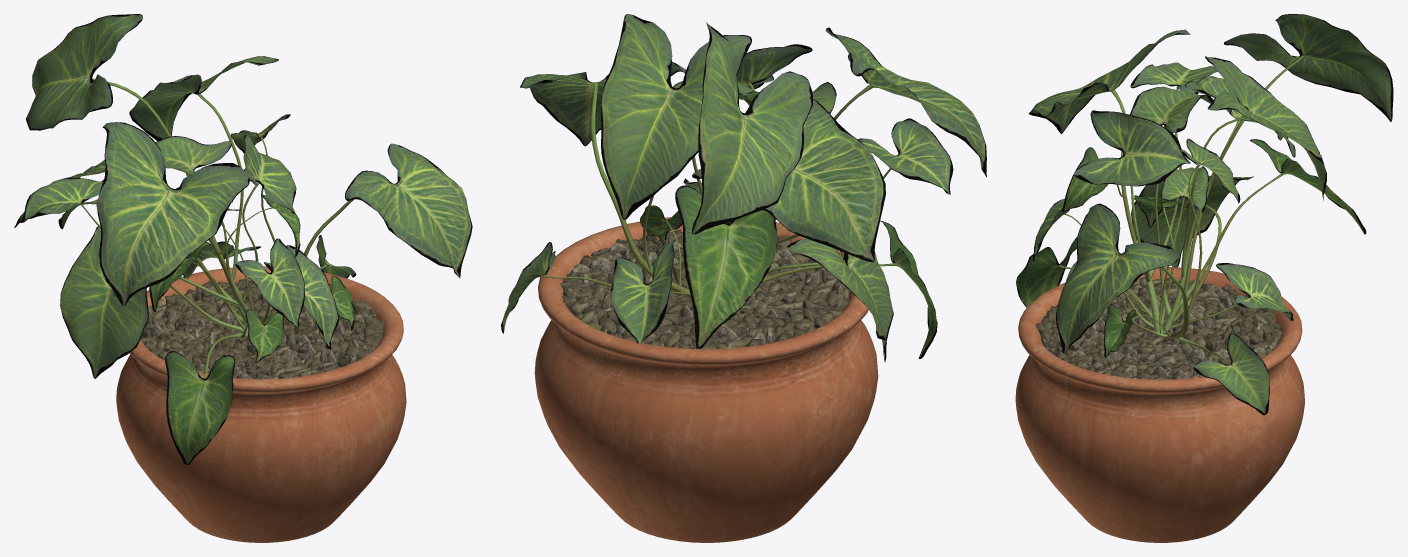
The model's file is living-plant-a.glb.
The picture shows the model from 3 angles, left to right: view 1: azimuth 30°, elevation 25°; view 2: azimuth 150°, elevation 25°; view 3: azimuth 270°, elevation 25°; orthographic projection. The views are drawn at different scales.
Visible parts, largest first — view 1: potted_plant_02_leaves, potted_plant_02_pot, potted_plant_02_dirt; view 2: potted_plant_02_leaves, potted_plant_02_pot, potted_plant_02_dirt; view 3: potted_plant_02_leaves, potted_plant_02_pot, potted_plant_02_dirt.
Part boxes in pixels (bbox=[...]): potted_plant_02_leaves: bbox=[14, 14, 472, 464]; potted_plant_02_pot: bbox=[116, 266, 406, 542]; potted_plant_02_dirt: bbox=[140, 278, 384, 379]; potted_plant_02_leaves: bbox=[501, 14, 986, 361]; potted_plant_02_pot: bbox=[534, 217, 878, 542]; potted_plant_02_dirt: bbox=[559, 229, 849, 349]; potted_plant_02_leaves: bbox=[1016, 14, 1393, 415]; potted_plant_02_pot: bbox=[1015, 267, 1304, 542]; potted_plant_02_dirt: bbox=[1036, 277, 1282, 379].
Bounding box in the file's own units: 0.7553 × 0.8412 × 0.6184.
2 materials, 2 textured.
